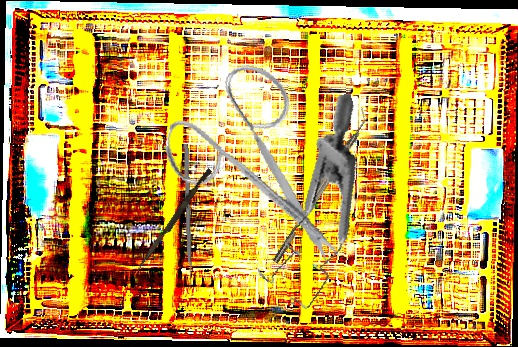Chopper: (265, 107, 374, 264)
Iris Scissors: (147, 51, 378, 267)
Pusher: (136, 166, 212, 274), (183, 143, 194, 296)
Speculum: (219, 92, 402, 319)
